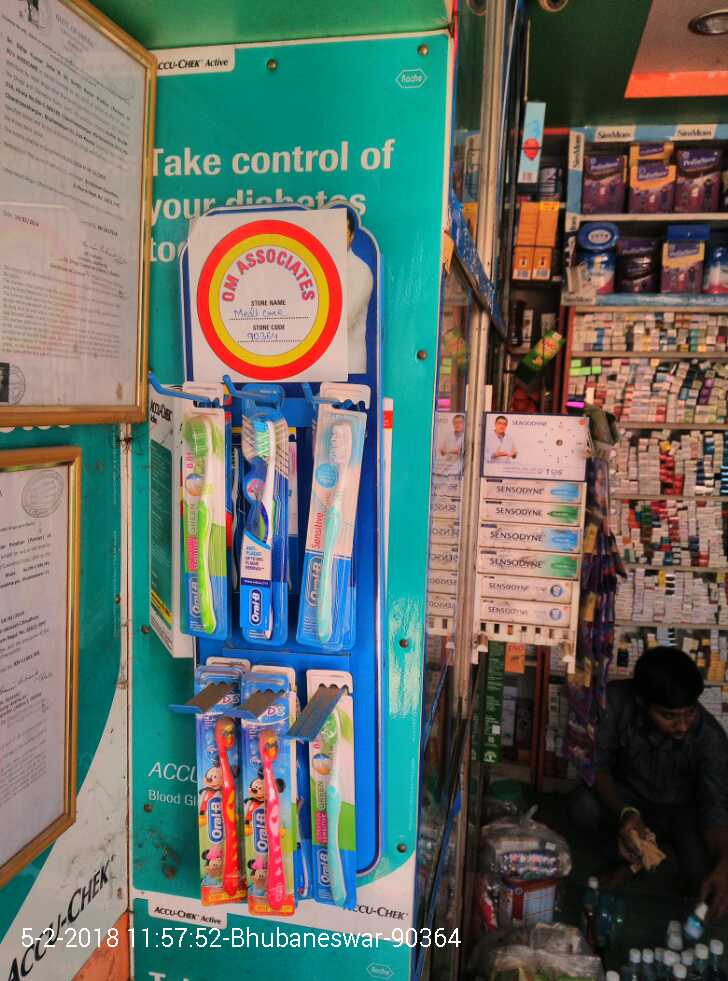oralb: (307, 413, 357, 649), (239, 407, 283, 646), (303, 715, 357, 909), (180, 399, 219, 630), (246, 726, 292, 910), (197, 709, 236, 903)
